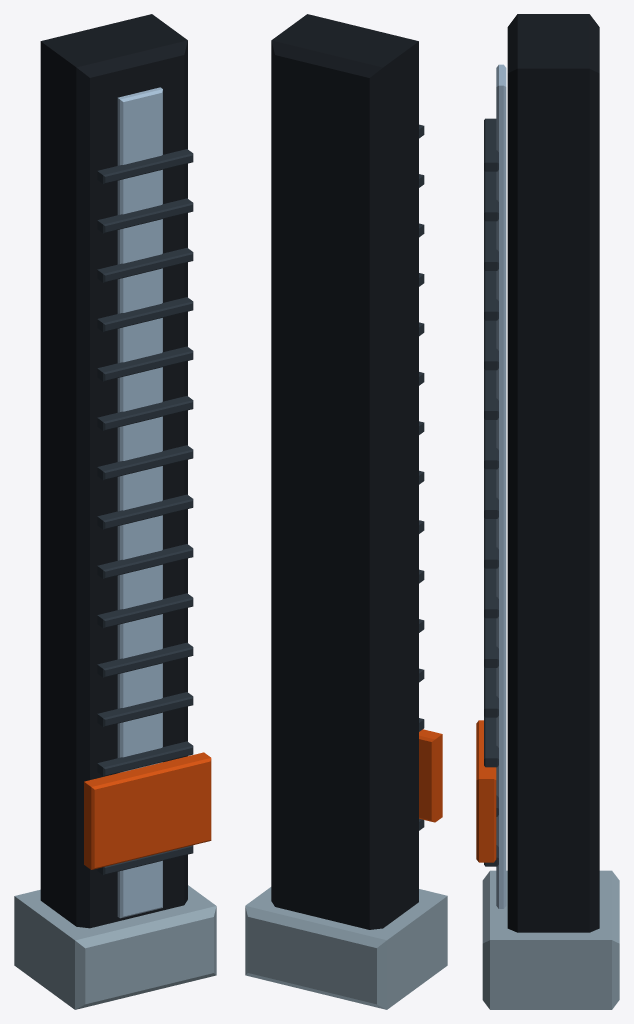
The model's file is NailgunBlue_Normal_Magazine.obj.
3 views of the same model, side by side, from view 1: azimuth 30°, elevation 25°; view 2: azimuth 150°, elevation 25°; view 3: azimuth 270°, elevation 25° (orthographic).
Visible parts, largest first — view 1: FrameBlack, Steel, Graphite, MachinedSteel, LatchOrange; view 2: FrameBlack, MachinedSteel, LatchOrange, Graphite; view 3: FrameBlack, MachinedSteel, Graphite, Steel, LatchOrange.
Part boxes in pixels (box(x1,y1,x2,y2)): FrameBlack: box(40, 14, 187, 928); Steel: box(117, 87, 162, 918); Graphite: box(97, 149, 193, 875); MachinedSteel: box(14, 885, 216, 1009); LatchOrange: box(84, 752, 211, 869); FrameBlack: box(271, 14, 418, 929); MachinedSteel: box(245, 887, 447, 1009); LatchOrange: box(419, 729, 442, 822); Graphite: box(419, 124, 424, 830); FrameBlack: box(507, 14, 599, 932); MachinedSteel: box(482, 870, 619, 1009); Graphite: box(484, 118, 498, 866); Steel: box(496, 64, 506, 908); LatchOrange: box(476, 720, 496, 862).
Size of the model in its own units: 0.066 by 0.414 by 0.0575.
